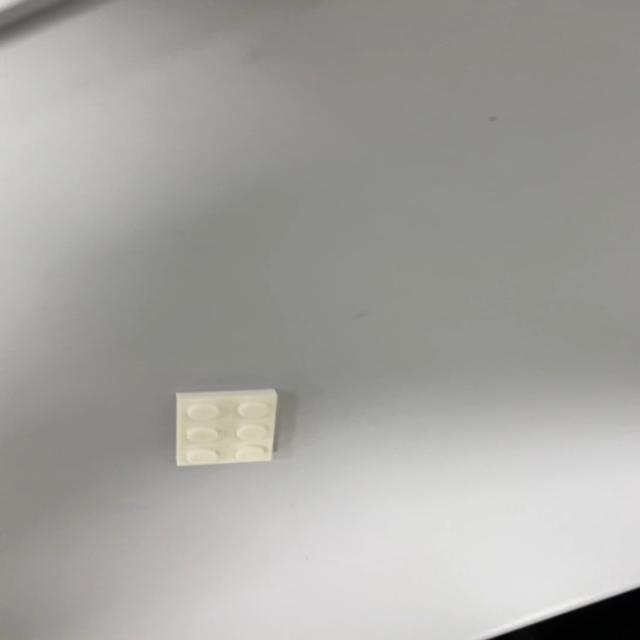C3x2x0: (173, 388, 279, 467)
